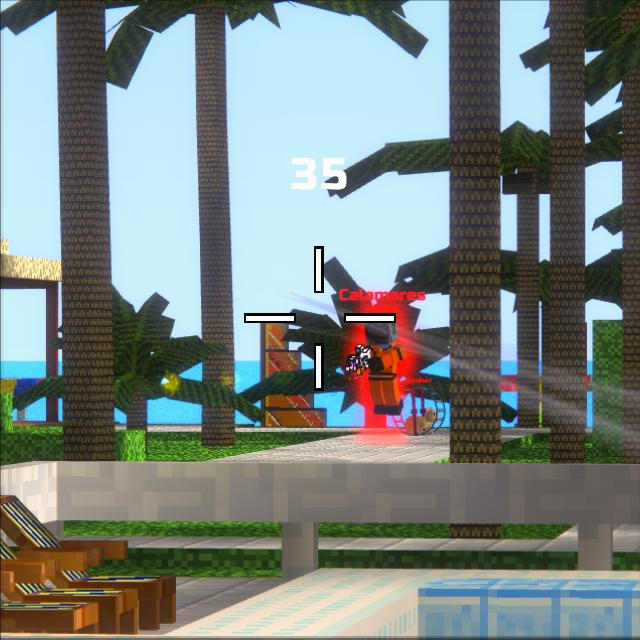Enemy: (346, 323, 407, 415)
